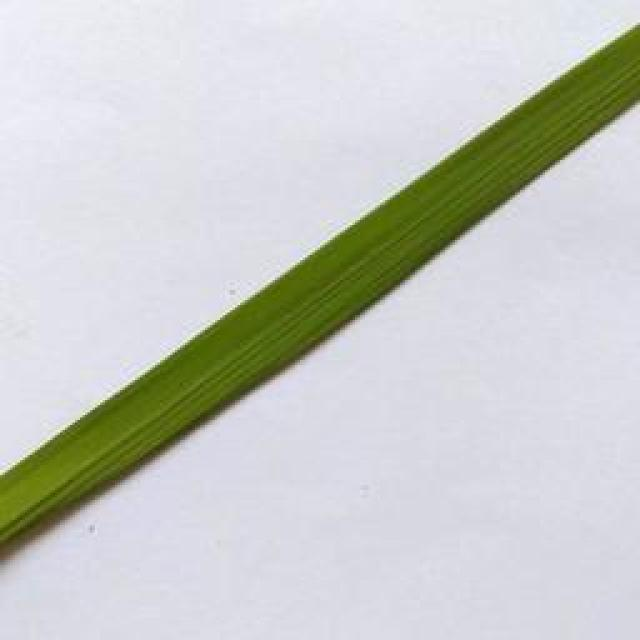Healthy-Plant: (0, 17, 640, 547)
